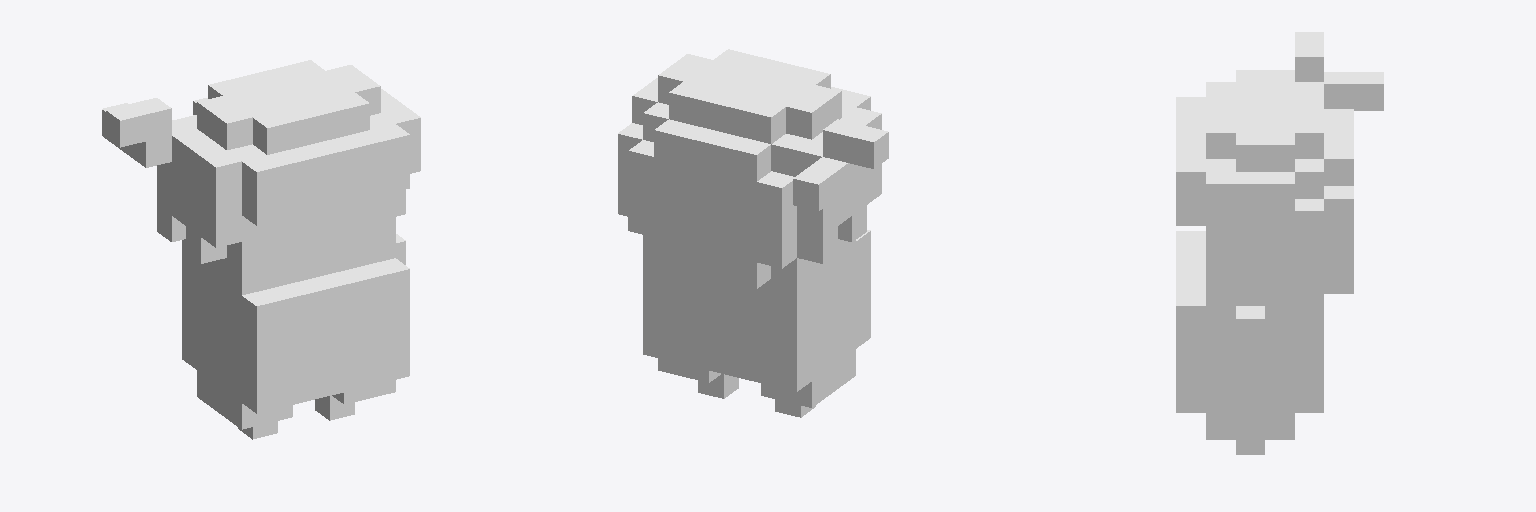
File: BanditBody.obj
The picture shows the model from 3 angles: view 1: azimuth 30°, elevation 25°; view 2: azimuth 150°, elevation 25°; view 3: azimuth 270°, elevation 25°; orthographic projection.
Size of the model in its own units: 10 by 12 by 7.